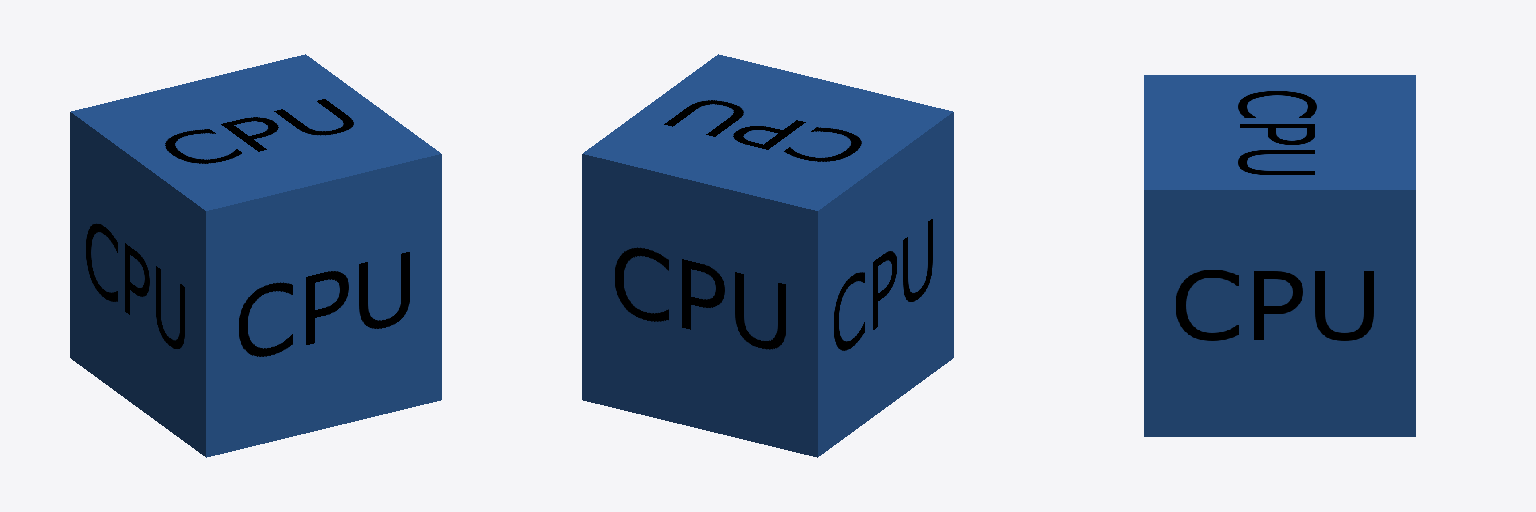
3 renders of one model, left to right at view 1: azimuth 30°, elevation 25°; view 2: azimuth 150°, elevation 25°; view 3: azimuth 270°, elevation 25°, orthographic.
Visible parts, largest first — view 1: Cube29; view 2: Cube29; view 3: Cube29.
Boxes of the visible parts, box(x1,y1,x2,y2) form: Cube29: box(70, 54, 441, 457); Cube29: box(582, 54, 953, 457); Cube29: box(1144, 75, 1415, 436).
Size of the model in its own units: 2 by 2 by 2.
1 materials, 1 textured.